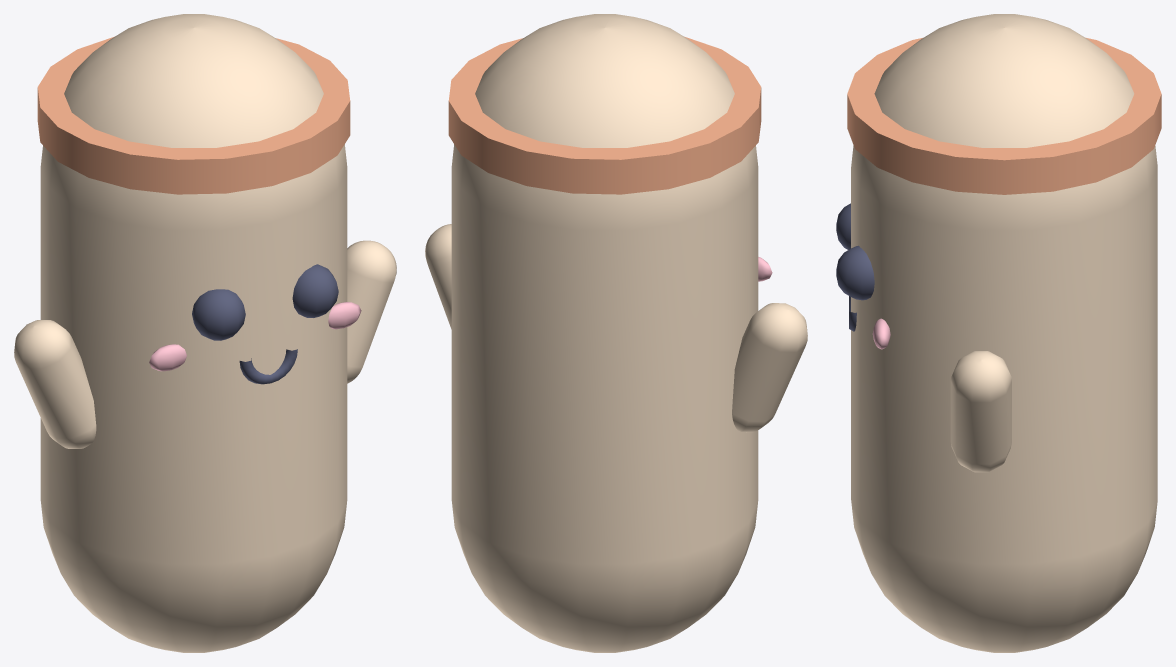
Rendered from wargab5.glb.
3 views of the same model, side by side, from view 1: azimuth 30°, elevation 25°; view 2: azimuth 150°, elevation 25°; view 3: azimuth 270°, elevation 25° (orthographic).
Visible parts, largest first — view 1: wargab5; view 2: wargab5; view 3: wargab5.
Boxes of the visible parts, bbox=[...] form: wargab5: bbox=[14, 14, 396, 652]; wargab5: bbox=[425, 14, 807, 652]; wargab5: bbox=[836, 14, 1161, 652].
Size of the model in its own units: 0.5634 by 0.88 by 0.4242.
